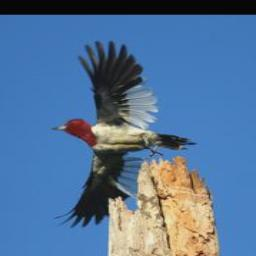Woodpecker: (50, 39, 197, 229)
